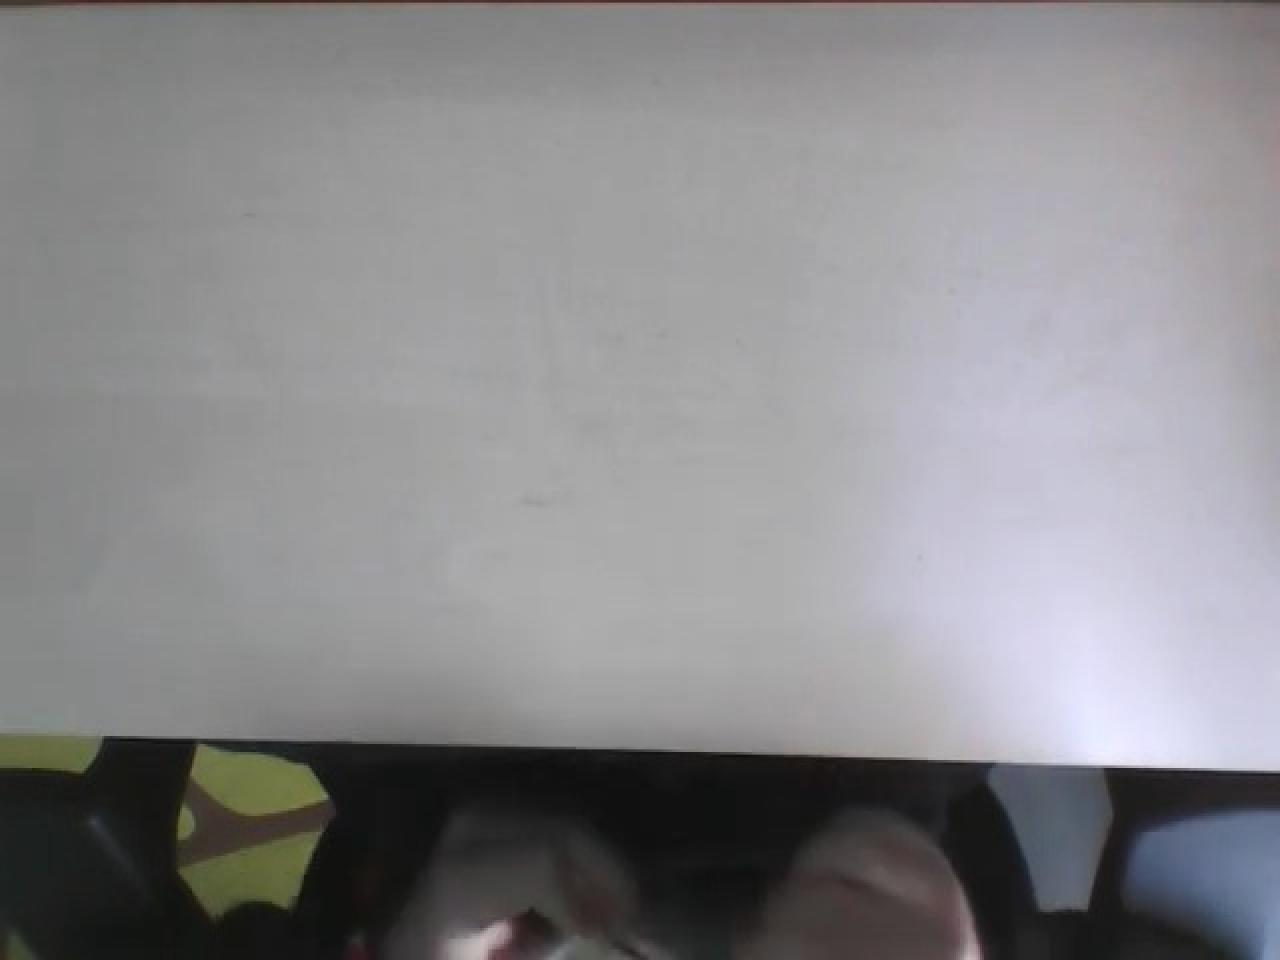100leva: (4, 5, 1278, 782), (6, 741, 1276, 960)
